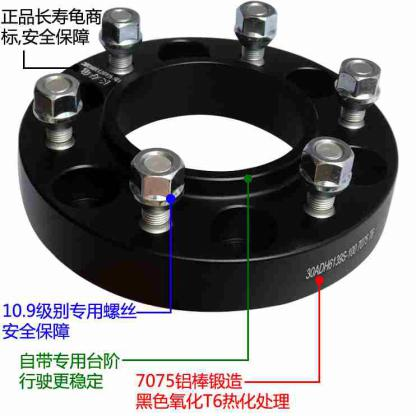FOD: (12, 30, 406, 314), (125, 147, 189, 235), (296, 137, 357, 217), (28, 74, 88, 153), (332, 54, 382, 134), (97, 5, 146, 76), (232, 0, 283, 64)
